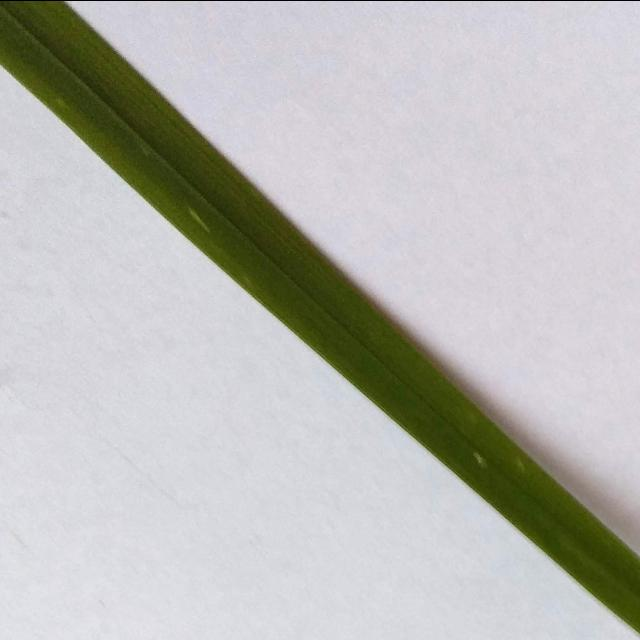healthy: (0, 0, 640, 635)
